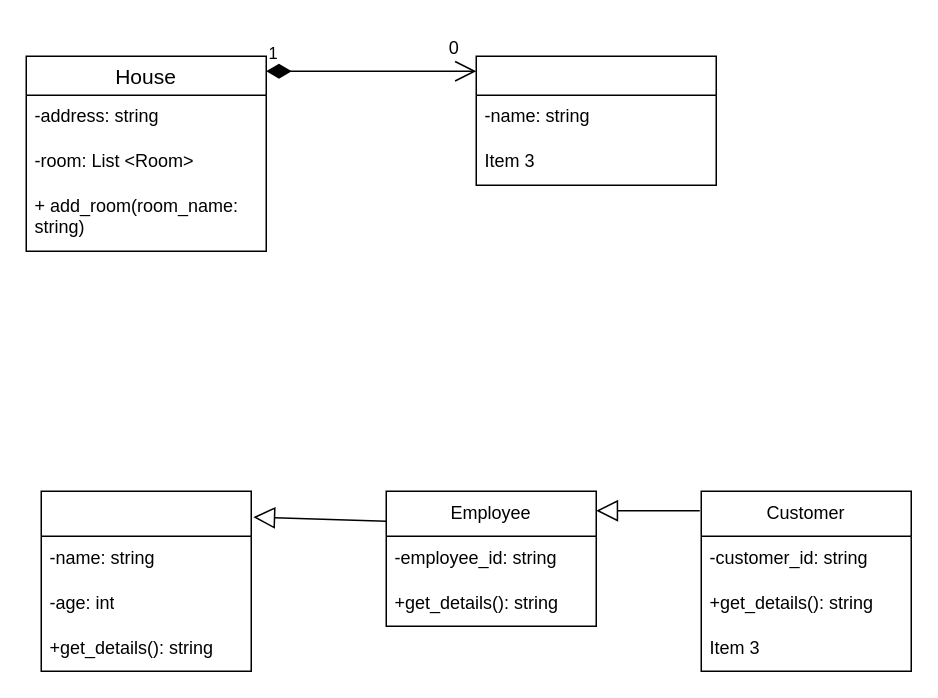
Some shapes in this 938 by 698 pixel diagram are drawn without their labels. Here are the shapes that lost their labels. From the top down, the box of each, then its label:
(475, 55, 716, 185): Room
(40, 490, 251, 671): Person
